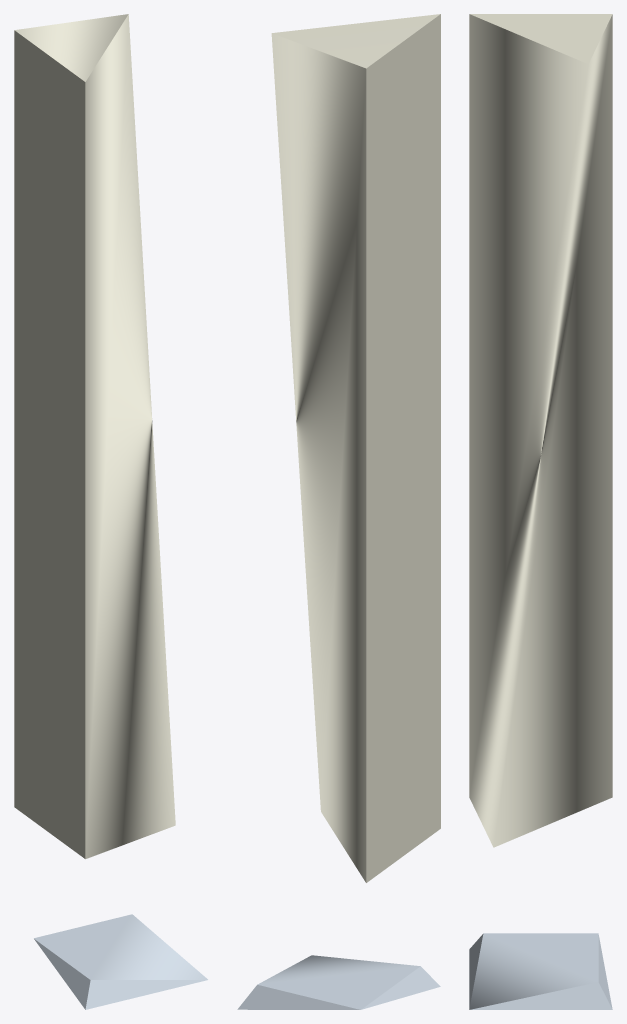
The model's file is lampSquareFloor.glb.
The picture shows the model from 3 angles, left to right: view 1: azimuth 30°, elevation 25°; view 2: azimuth 150°, elevation 25°; view 3: azimuth 270°, elevation 25°; orthographic projection. The views are drawn at different scales.
Visible parts, largest first — view 1: lampSquareFloor(Clone); view 2: lampSquareFloor(Clone); view 3: lampSquareFloor(Clone).
Part boxes in pixels (x1,y1,x2,y2): lampSquareFloor(Clone): (14, 14, 207, 1009); lampSquareFloor(Clone): (237, 14, 440, 1009); lampSquareFloor(Clone): (469, 14, 612, 1009).
Size of the model in its own units: 0.1195 by 0.86 by 0.1195.
